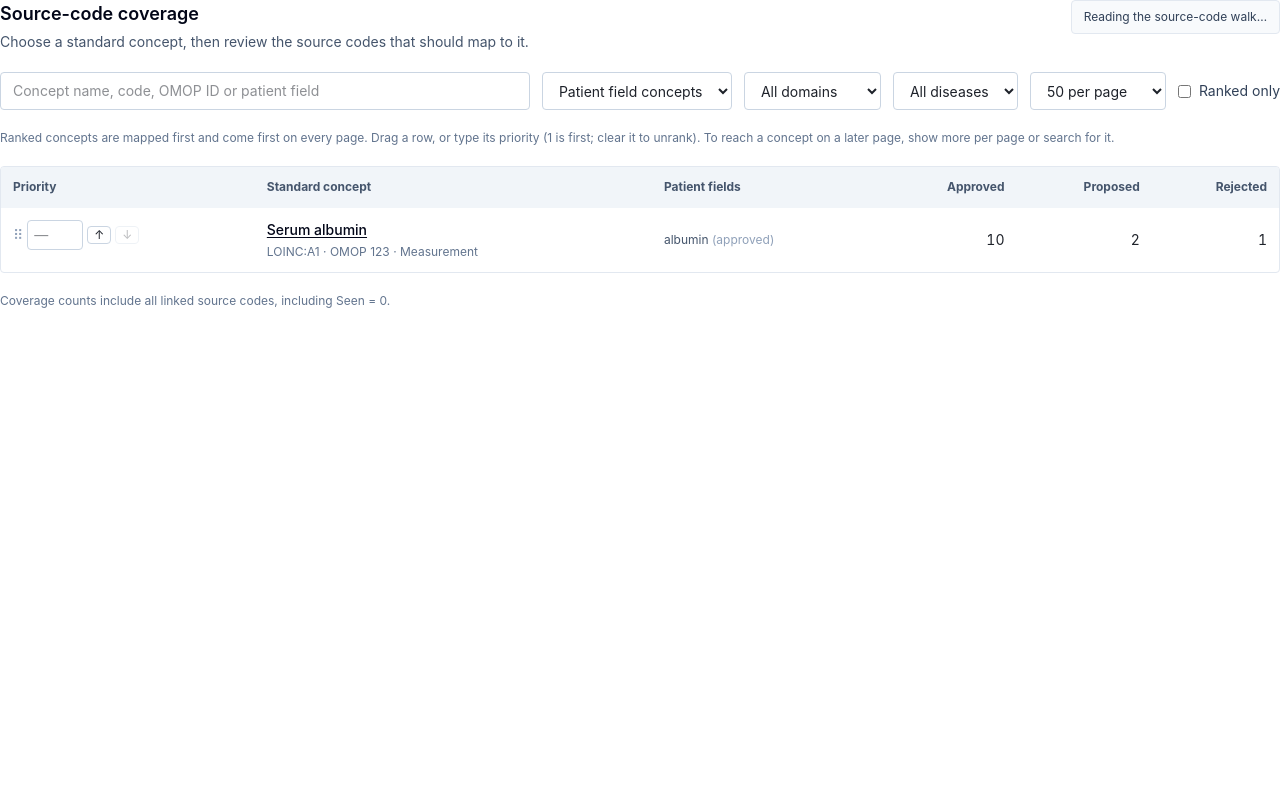
it: concept-first curation › forgets a folded group's failure and stale counts; a write refreshes the open groups
What coordinates should you click on to do the following:
click the button "Serum albumin"
I would click on:
 (317, 230)
Its box is [267,220,367,240].
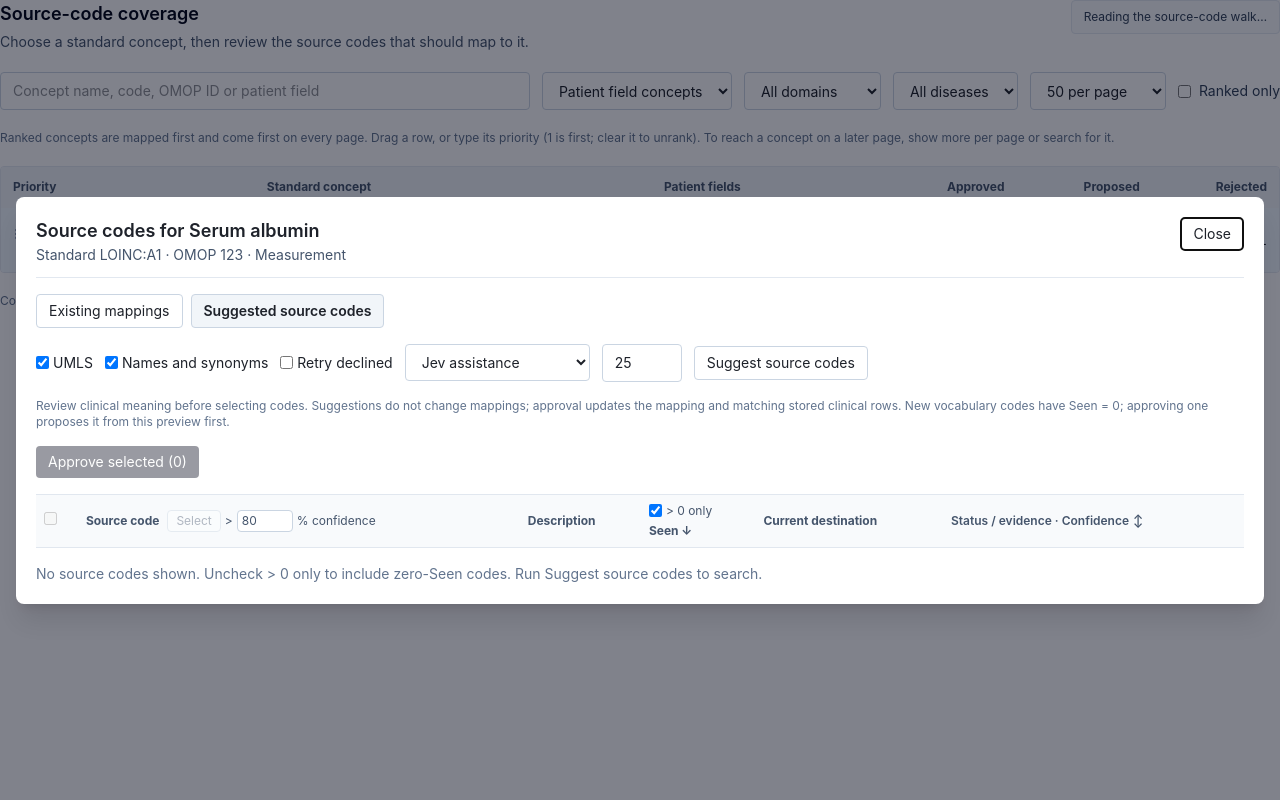
What coordinates should you click on to do the following:
click the button "Existing mappings"
I would click on:
 (109, 310)
Its box is [36,294,182,328].
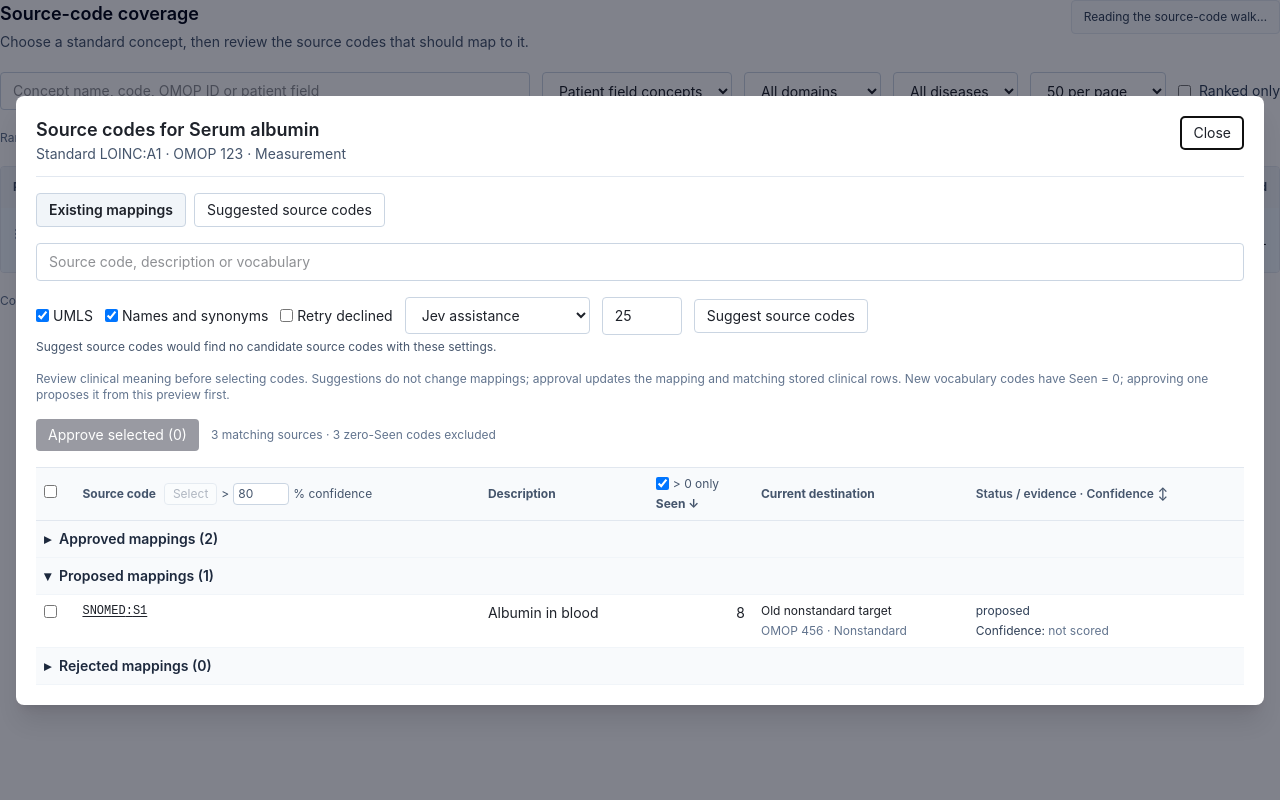
expect the button "SNOMED:S1" is shown: met, box [82,602,147,618]
What coordinates should you click on to do the following:
click the button "▸ Approved mappings (2)"
I would click on:
 (131, 538)
Its box is [44,528,218,548].
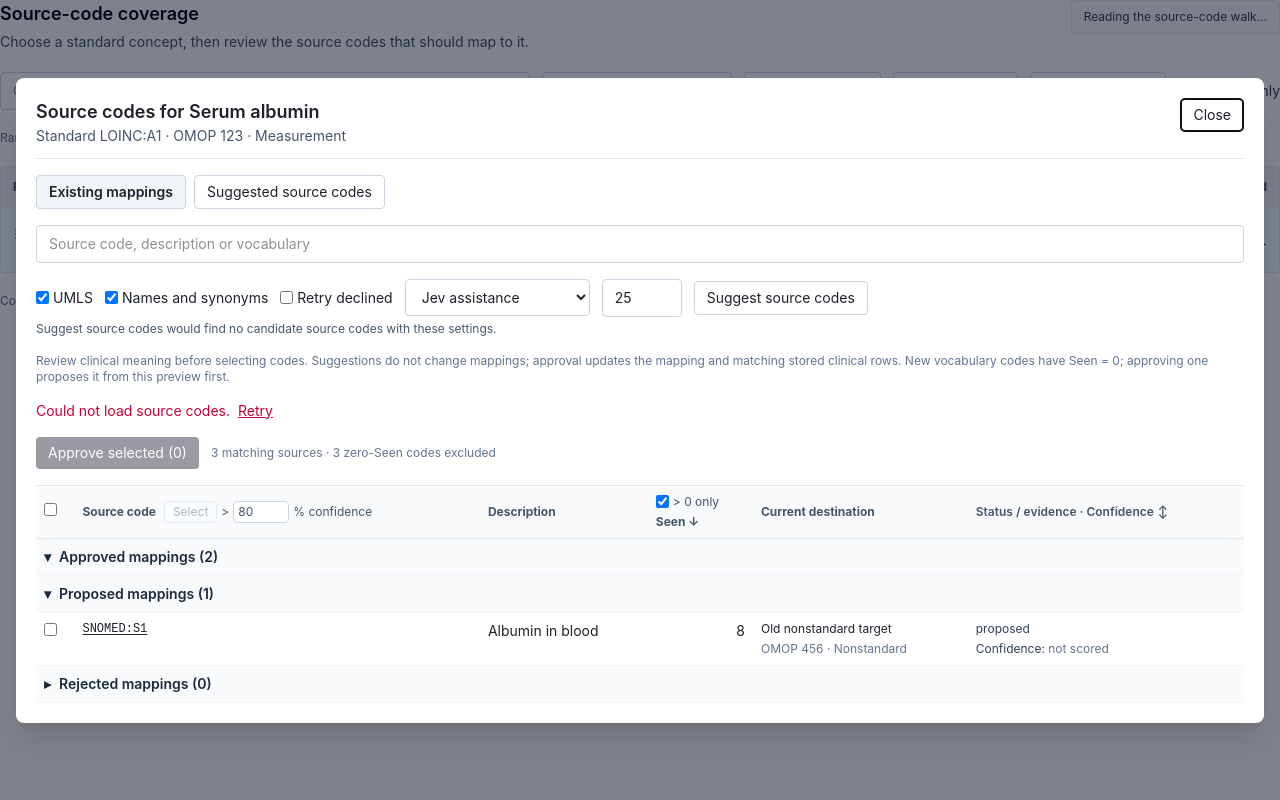
expect the message shows "Could not load source codes.": met, box [36,402,230,418]
What coordinates should you click on to do the following:
click the button "▾ Approved mappings (2)"
I would click on:
 (131, 556)
Its box is [44,546,218,566].
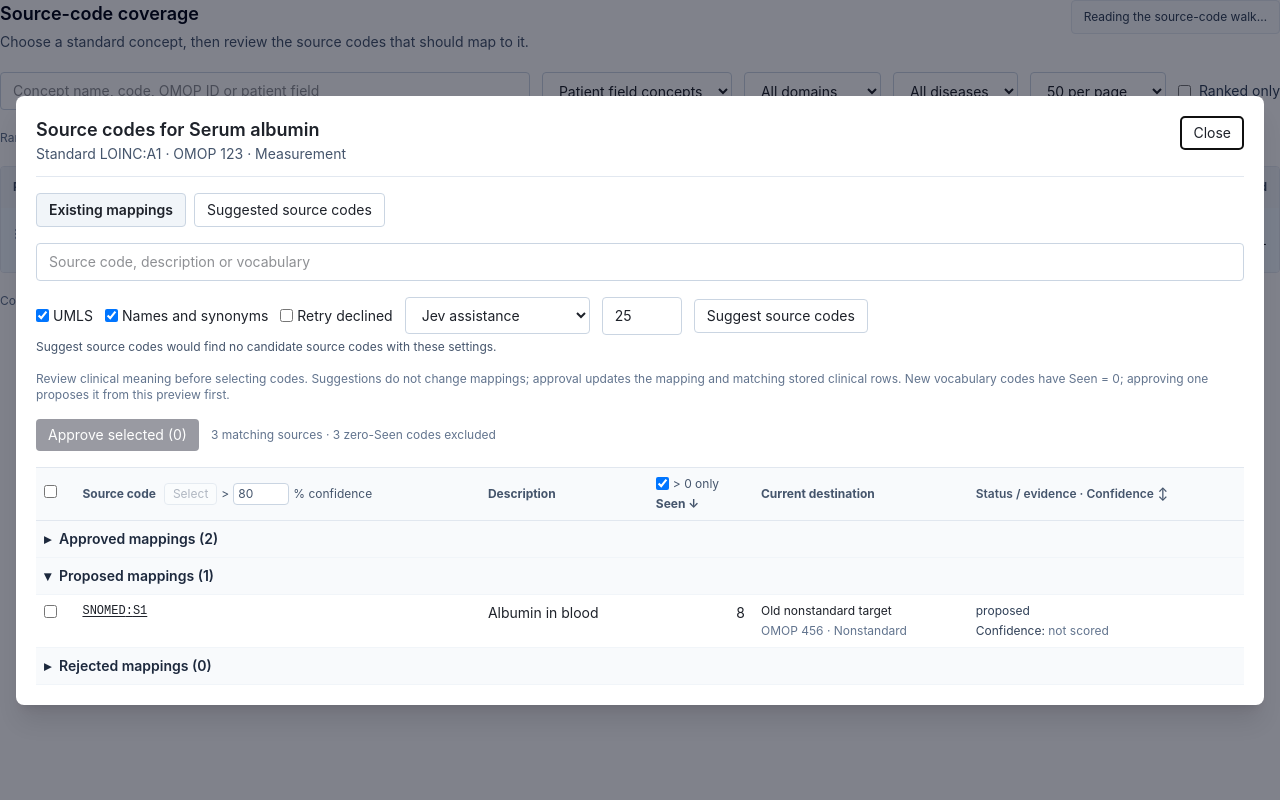
expect the message "Could not load source codes. Retry" is gone: met
What coordinates should you click on to do the following:
click the checkbox named "Select SNOMED S1"
I would click on:
 (50, 611)
Its box is [44,604,57,618].
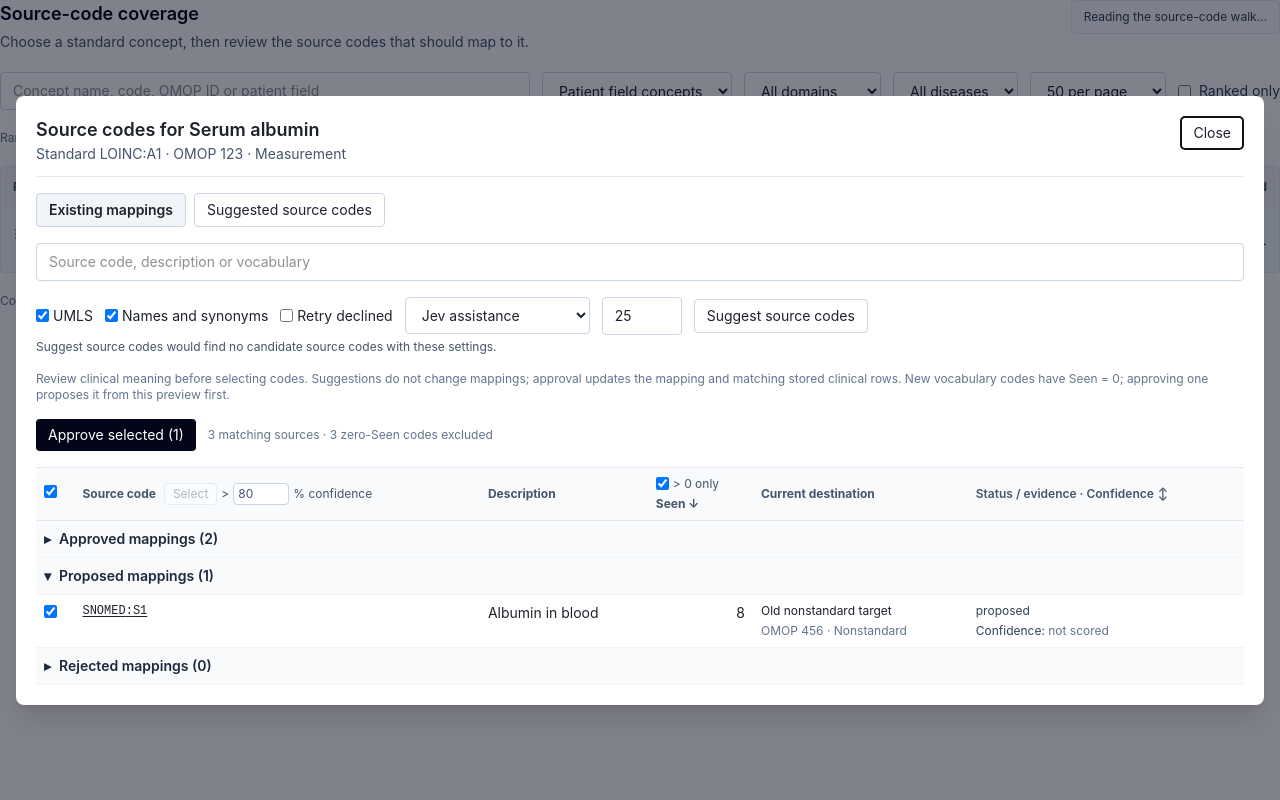
What coordinates should you click on to do the following:
click the button "Approve selected (1)"
I would click on:
 (116, 434)
Its box is [36,418,196,450].
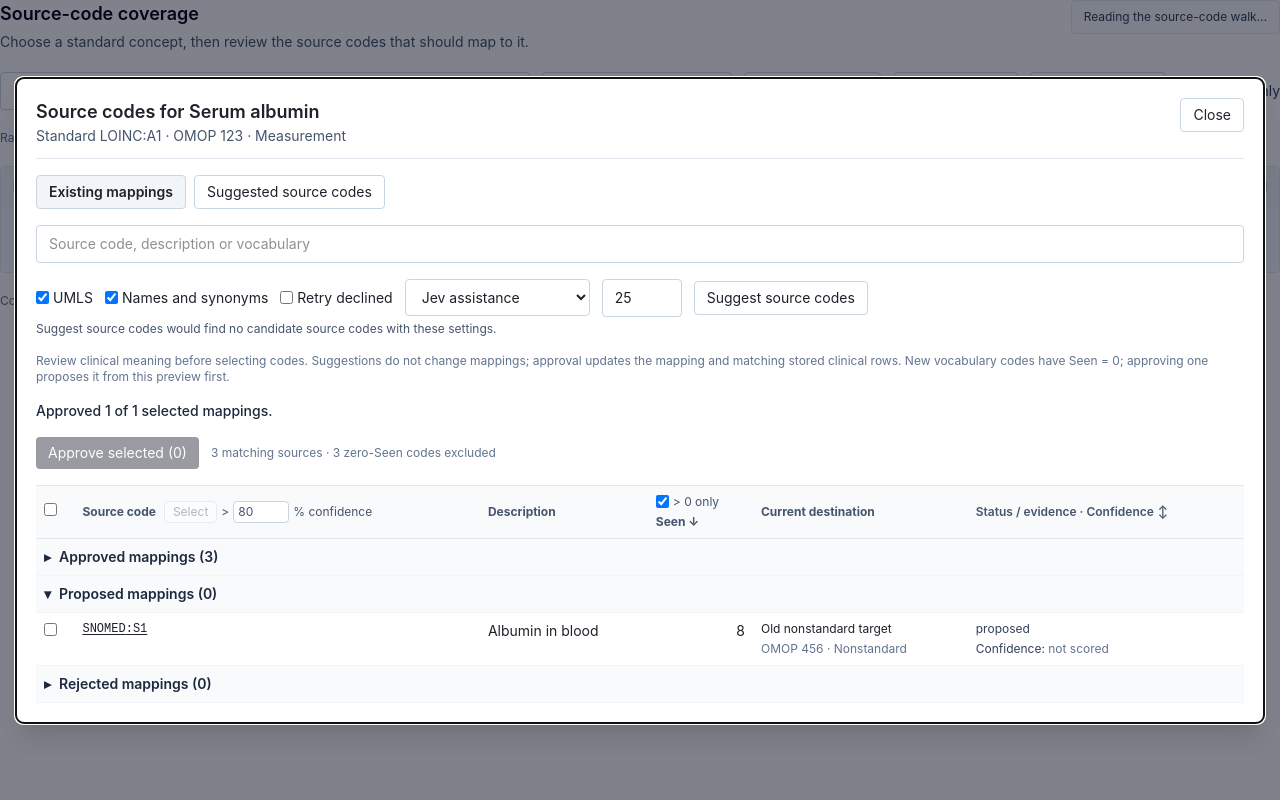
expect the text "Approved 1 of 1 selected mappings." is shown: met, box [36,402,272,418]
expect the button "▸ Approved mappings (3)" is shown: met, box [44,546,218,566]
expect the button "▾ Proposed mappings (0)" is shown: met, box [44,584,217,604]
